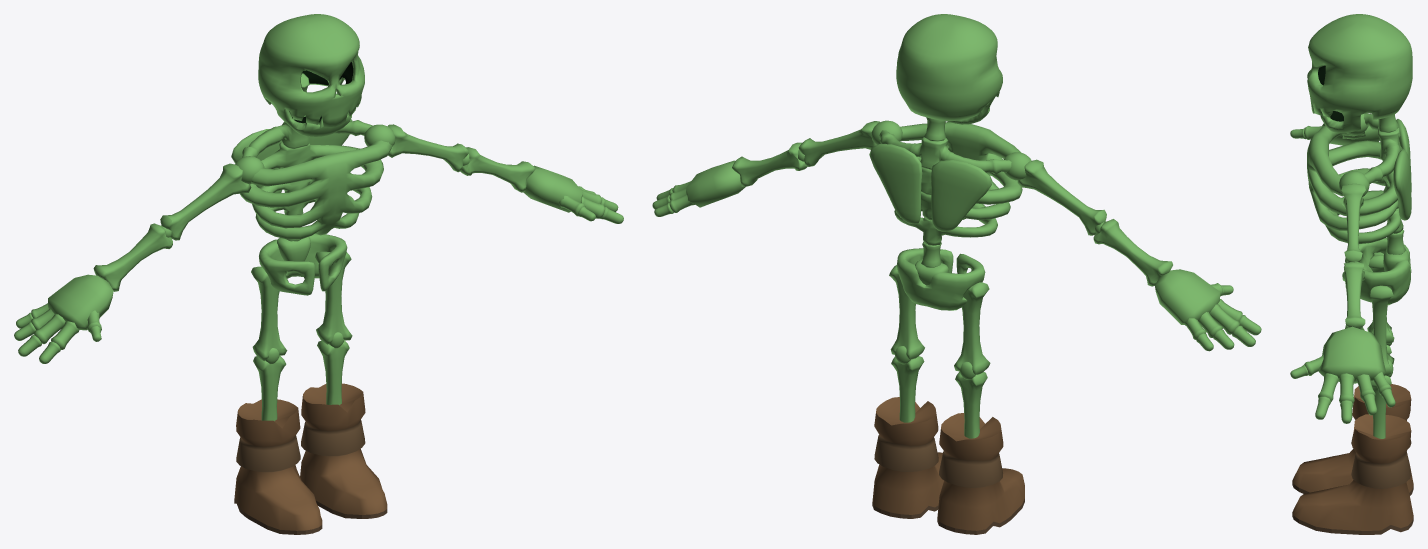
Rendered from ENEMY 1 (final).fbx.
3 renders of one model, left to right at view 1: azimuth 30°, elevation 25°; view 2: azimuth 150°, elevation 25°; view 3: azimuth 270°, elevation 25°, orthographic.
Visible parts, largest first — view 1: polySurface276; view 2: polySurface276; view 3: polySurface276.
Boxes of the visible parts, x1=… form: polySurface276: x1=14, y1=14, x2=623, y2=534; polySurface276: x1=652, y1=14, x2=1261, y2=534; polySurface276: x1=1290, y1=14, x2=1413, y2=534.
Size of the model in its own units: 37.15 by 28.76 by 6.66.
